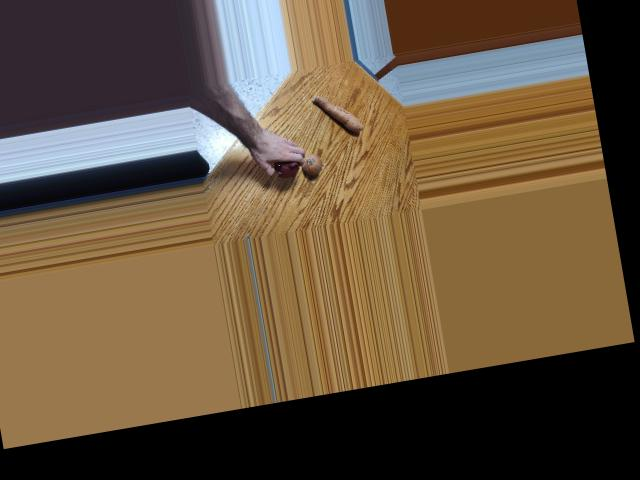onion: (275, 153, 301, 178)
